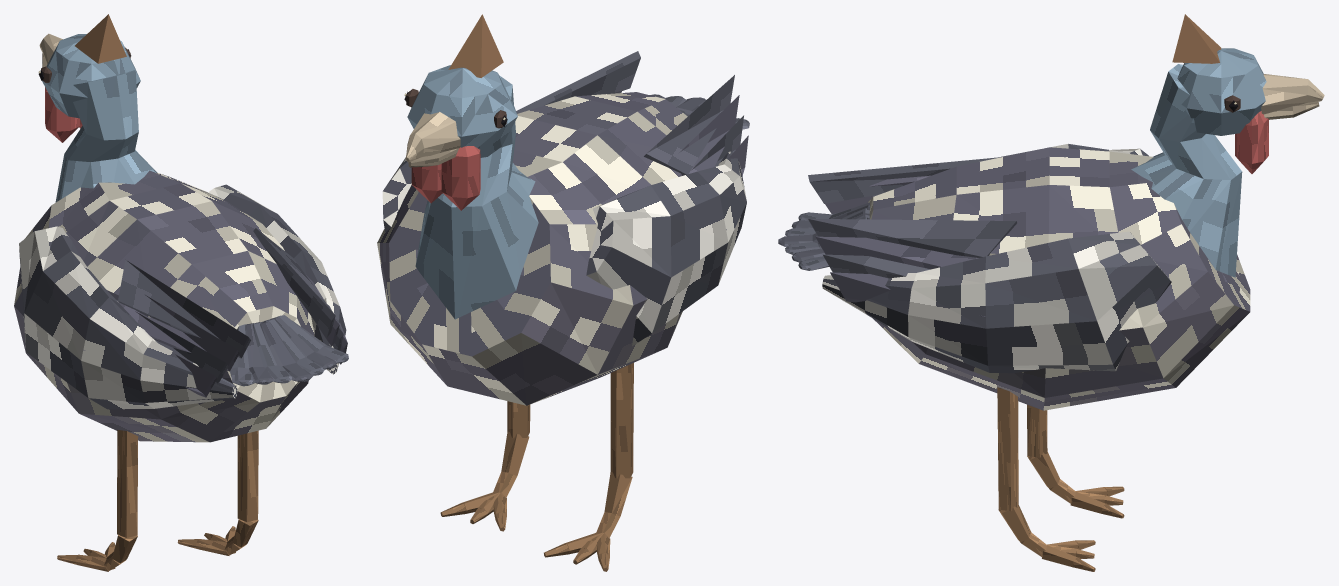
The model's file is mon_guinea_fowl.glb.
3 views of the same model, side by side, from view 1: azimuth 30°, elevation 25°; view 2: azimuth 150°, elevation 25°; view 3: azimuth 270°, elevation 25° (orthographic). The views are drawn at different scales.
Parts seen in each view (by area): view 1: closed_body; view 2: closed_body; view 3: closed_body.
Boxes of the visible parts, <box> form: closed_body: <box>14,14,348,571</box>; closed_body: <box>377,14,749,571</box>; closed_body: <box>778,14,1324,571</box>.
Size of the model in its own units: 0.1875 by 0.356 by 0.3399.
Materials: 1 (1 with a texture image).
